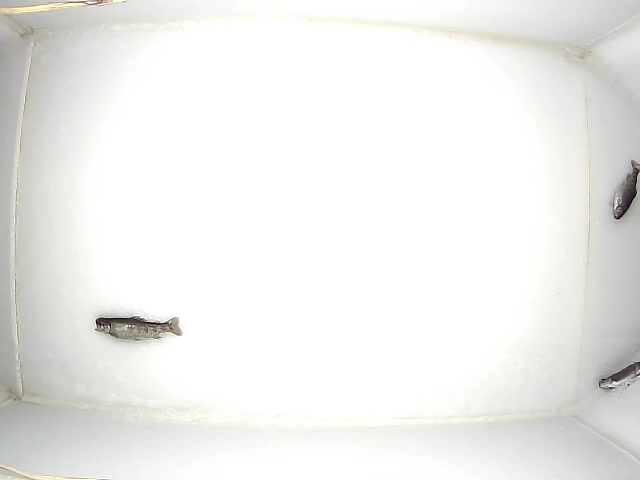fish: (94, 316, 184, 342), (613, 159, 640, 220), (599, 361, 640, 390)
